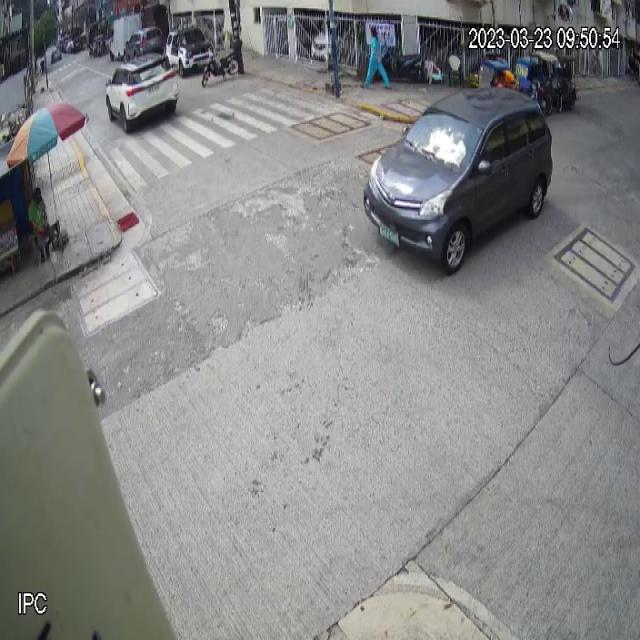Car: (364, 87, 554, 276), (105, 54, 180, 136)
